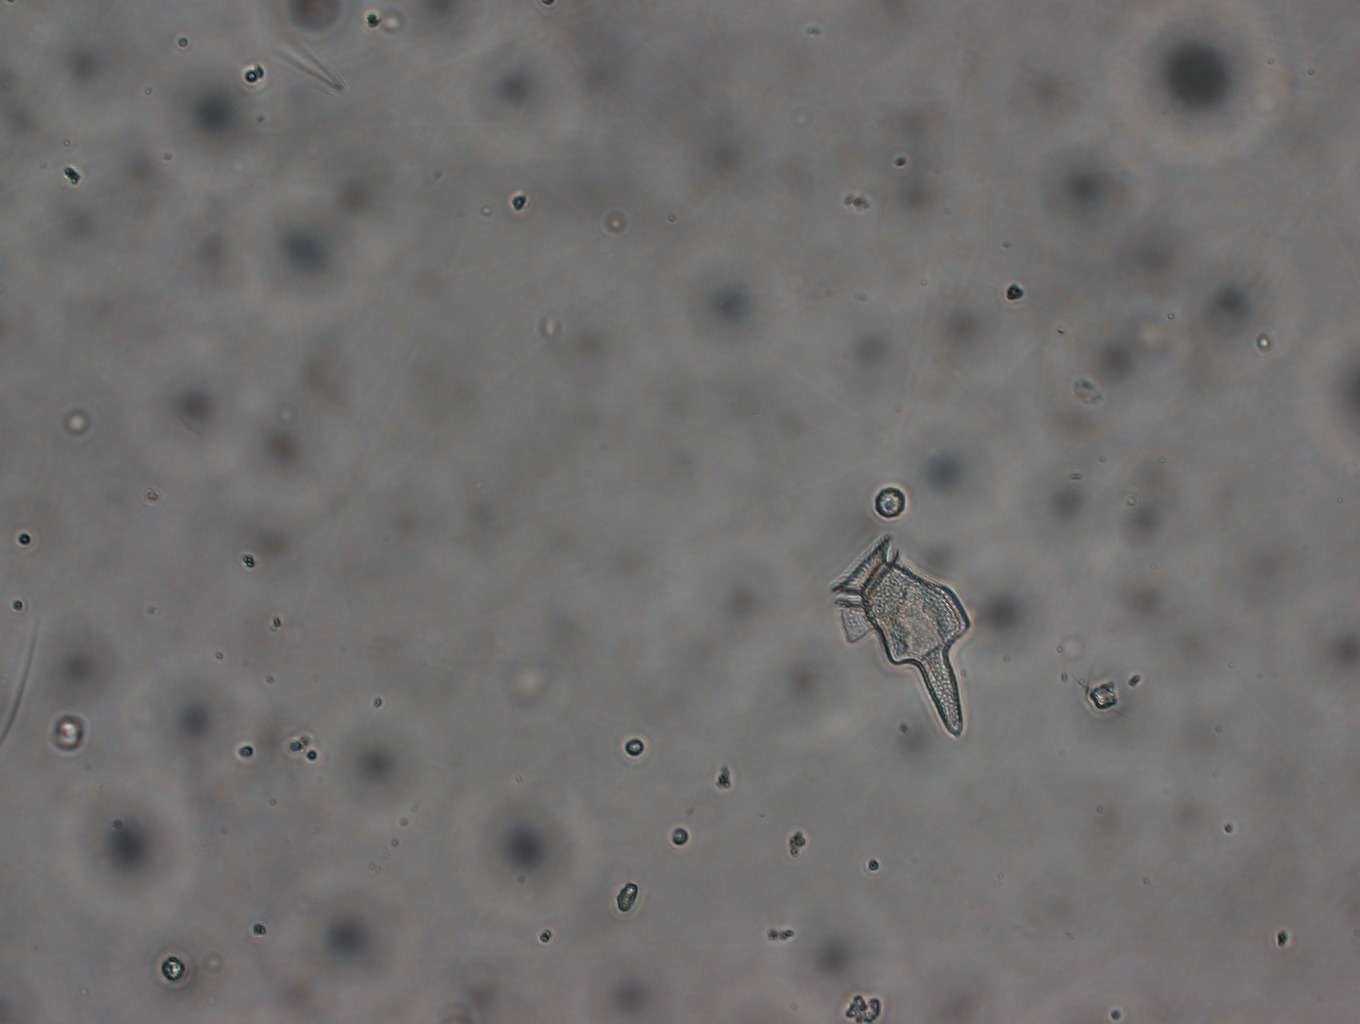dinophysis caudata: (828, 534, 973, 737)
